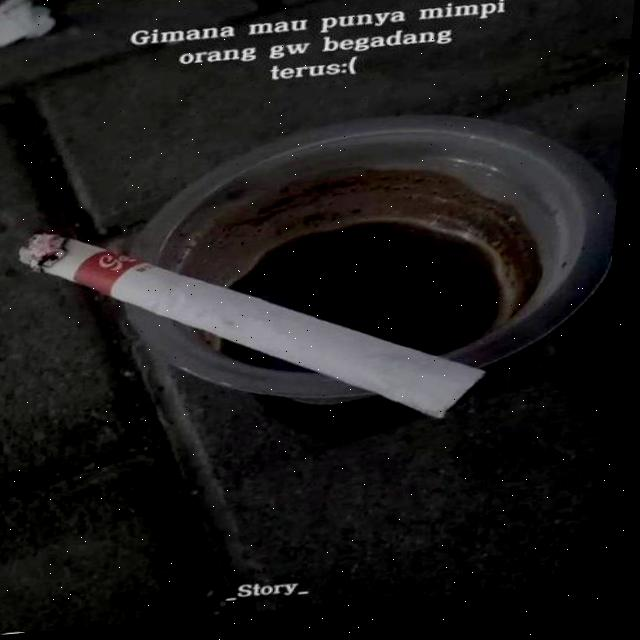cigarette: (8, 203, 509, 459)
